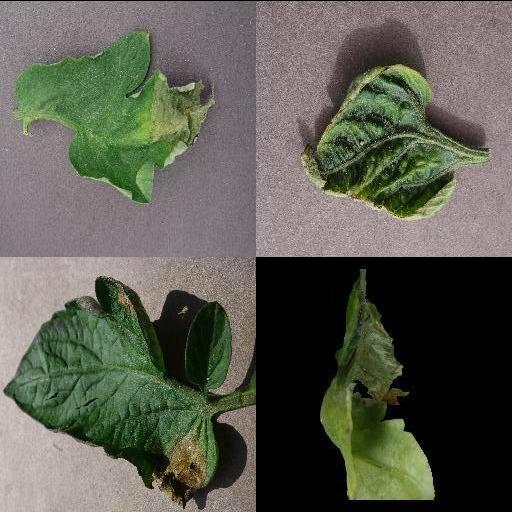Late Blight: (1, 274, 217, 510), (15, 29, 217, 205), (318, 268, 438, 498)
Yellow Leaf Curl Virus: (301, 62, 459, 220)
